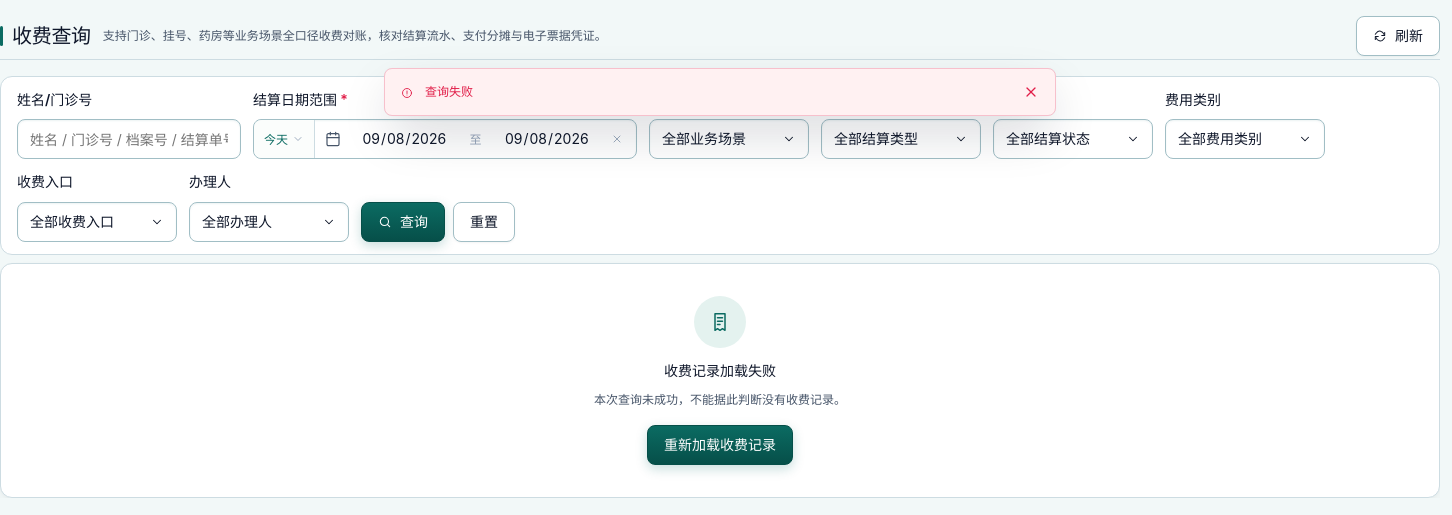
Scenario: BillingQueryWorkspace › does not present unavailable list as no records: failure
The image size is (1452, 515).
Expected: the text "收费记录加载失败" is shown, [664, 360, 776, 382]
Click the button "重新加载收费记录". click: {"x": 720, "y": 445}
box: [647, 425, 793, 465]
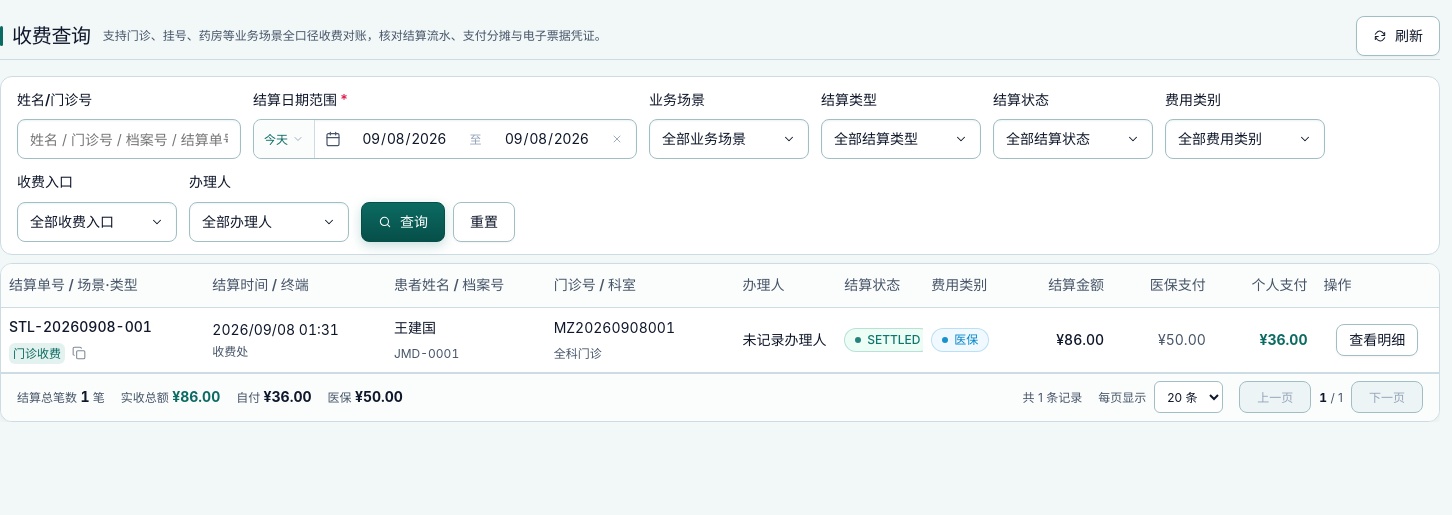
Expected: the button with aria-label "结算记录 STL-20260908-001" is shown, [1, 308, 1439, 372]
